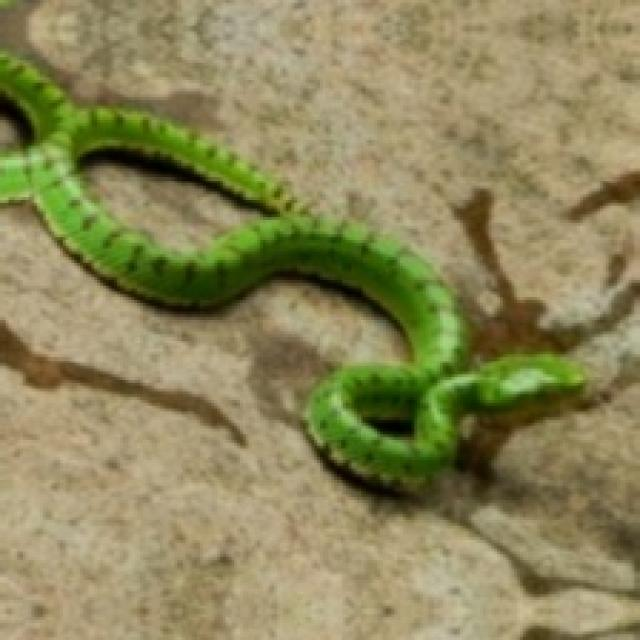philippine pitviper: (0, 49, 586, 491)
